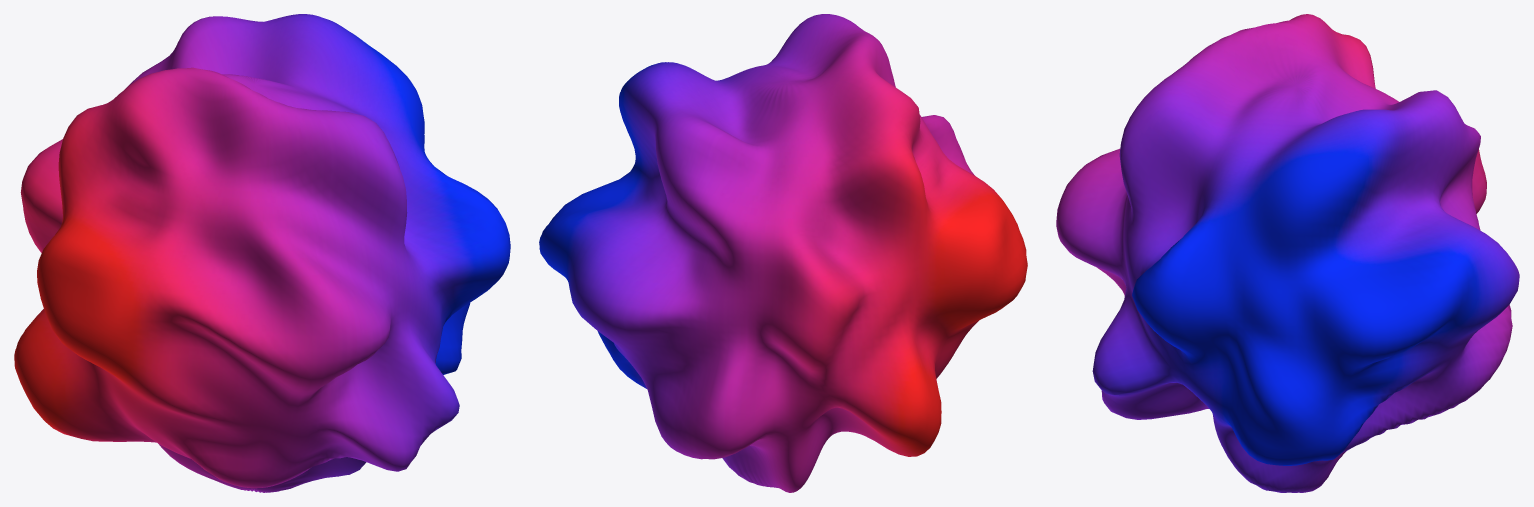
The model's file is drun.gltf.
3 views of the same model, side by side, from view 1: azimuth 30°, elevation 25°; view 2: azimuth 150°, elevation 25°; view 3: azimuth 270°, elevation 25° (orthographic). The views are drawn at different scales.
Visible parts, largest first — view 1: Sphere; view 2: Sphere; view 3: Sphere.
Part boxes in pixels (x1,y1,x2,y2): Sphere: [14, 14, 510, 492]; Sphere: [539, 14, 1027, 492]; Sphere: [1056, 14, 1519, 492].
Size of the model in its own units: 2.32 by 2.37 by 2.35.
1 material, 1 textured.
